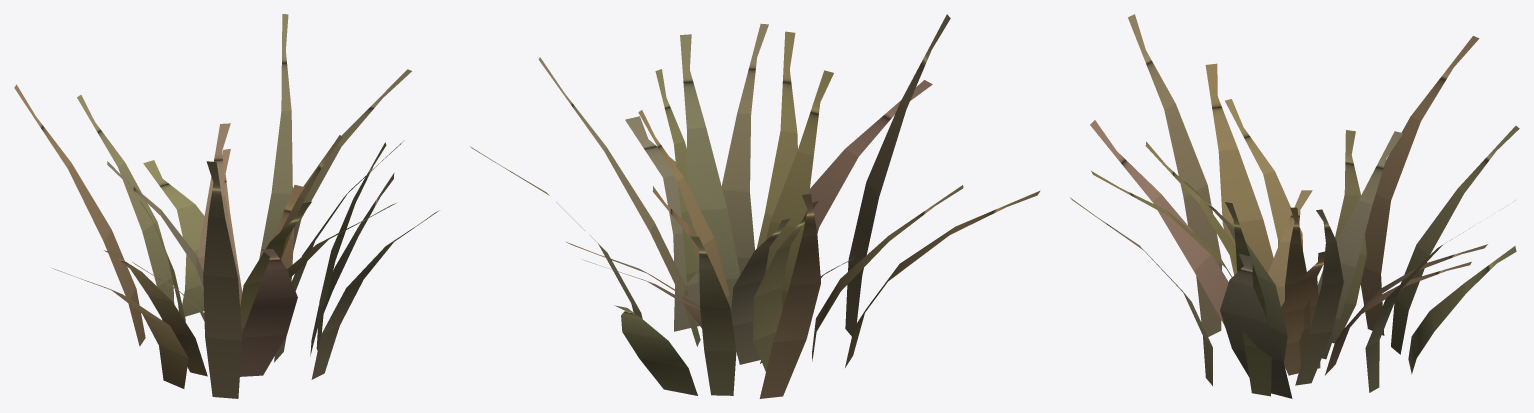
Rendered from savanna-sculpted-ground-detail.glb.
The picture shows the model from 3 angles, left to right: view 1: azimuth 30°, elevation 25°; view 2: azimuth 150°, elevation 25°; view 3: azimuth 270°, elevation 25°; orthographic projection. The views are drawn at different scales.
Parts seen in each view (by area): view 1: savanna-sculpted; view 2: savanna-sculpted; view 3: savanna-sculpted.
Part boxes in pixels (box(x1,y1,x2,y2)): savanna-sculpted: box(14, 14, 439, 398); savanna-sculpted: box(470, 14, 1040, 398); savanna-sculpted: box(1070, 14, 1519, 398).
Size of the model in its own units: 0.6539 by 0.4218 by 0.589.
